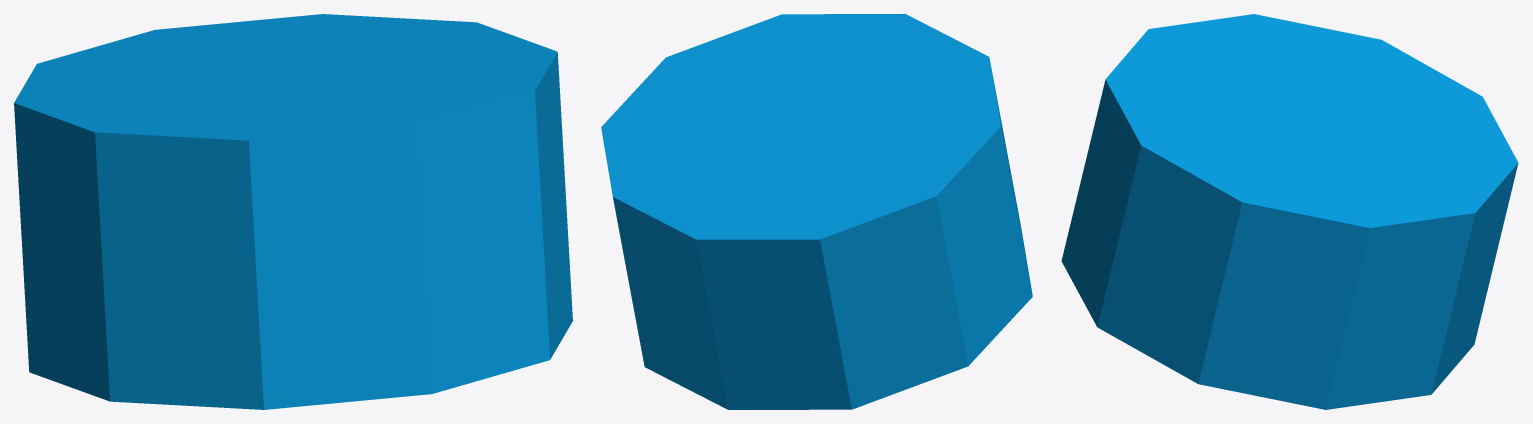
File: group1384989985_lev3.002.glb
3 renders of one model, left to right at view 1: azimuth 30°, elevation 25°; view 2: azimuth 150°, elevation 25°; view 3: azimuth 270°, elevation 25°, orthographic. The views are drawn at different scales.
Parts seen in each view (by area): view 1: group1384989985_lev3.002; view 2: group1384989985_lev3.002; view 3: group1384989985_lev3.002.
Part boxes in pixels (x1=…): group1384989985_lev3.002: x1=14, y1=14, x2=572, y2=409; group1384989985_lev3.002: x1=601, y1=14, x2=1032, y2=409; group1384989985_lev3.002: x1=1061, y1=14, x2=1518, y2=409.
Bounding box in the file's own units: 0.5403 × 0.3835 × 0.5944.
